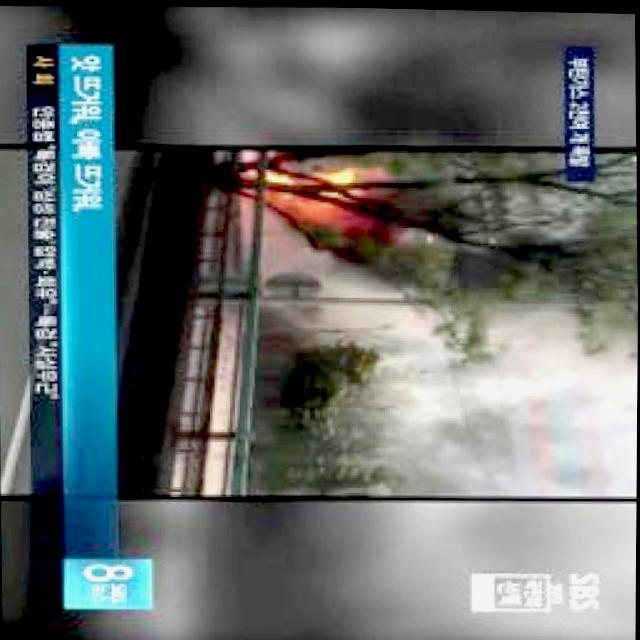Fire: (236, 161, 373, 218)
Smoke: (259, 220, 639, 442)
